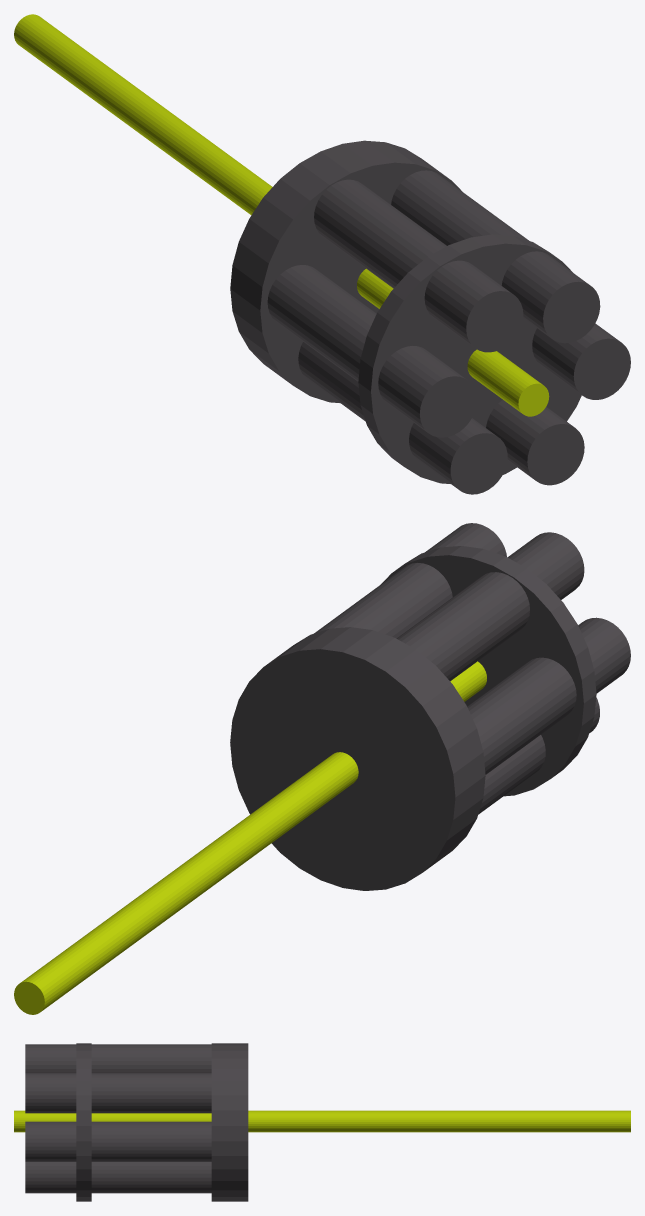
3 views of the same model, one above another, from view 1: azimuth 30°, elevation 25°; view 2: azimuth 150°, elevation 25°; view 3: azimuth 270°, elevation 25° (orthographic). The views are drawn at different scales.
Parts seen in each view (by area): view 1: Окружность, Окружность.001, Цилиндр, Цилиндр.007, Цилиндр.003, Цилиндр.005, Цилиндр.004, Цилиндр.006, Цилиндр.002; view 2: Окружность, Цилиндр, Окружность.001, Цилиндр.007, Цилиндр.003, Цилиндр.005, Цилиндр.004; view 3: Цилиндр, Цилиндр.002, Цилиндр.005, Окружность, Цилиндр.006, Цилиндр.007, Окружность.001.
Part boxes in pixels (x1,y1,x2,y2): Окружность: (230, 140, 462, 402); Окружность.001: (358, 234, 581, 483); Цилиндр: (14, 14, 549, 416); Цилиндр.007: (314, 179, 523, 352); Цилиндр.003: (267, 265, 476, 437); Цилиндр.005: (391, 170, 600, 343); Цилиндр.004: (298, 342, 507, 494); Цилиндр.006: (486, 400, 584, 485); Цилиндр.002: (532, 323, 630, 399); Окружность: (230, 627, 485, 890); Цилиндр: (14, 661, 486, 1014); Окружность.001: (380, 546, 596, 796); Цилиндр.007: (396, 532, 584, 681); Цилиндр.003: (467, 617, 630, 774); Цилиндр.005: (314, 523, 506, 638); Цилиндр.004: (478, 697, 599, 814); Цилиндр: (14, 1110, 630, 1132); Цилиндр.002: (25, 1121, 211, 1161); Цилиндр.005: (25, 1073, 211, 1113); Окружность: (211, 1043, 248, 1201); Цилиндр.006: (25, 1162, 211, 1193); Цилиндр.007: (25, 1044, 211, 1072); Окружность.001: (76, 1043, 91, 1201).
Size of the model in its own units: 3.83 by 3.83 by 14.89.
